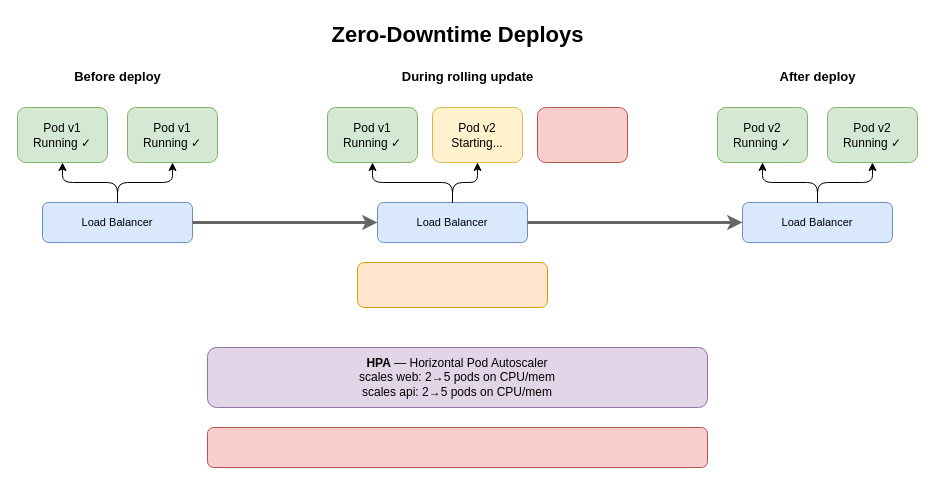
Image size: 935x485. Some labels were removed from this diagram. The centre of each missing label's shape, as x and y in pixels:
"On failure: kubectl rollout undo — reverts to previous image in seconds" belongs at point 457,447.
"PDB: maxUnavailable=0 always ≥1 pod serving traffic" belongs at point 452,285.
"Pod v1 Terminating" belongs at point 582,134.
